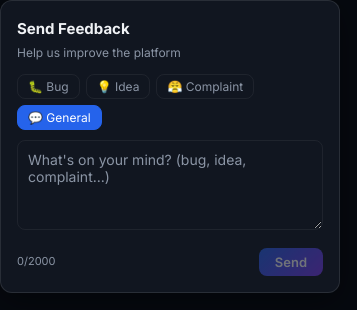
Scenario: FeedbackPopover › enables submit when message is non-empty
Type "Great platform!" into the text box with placeholder "What's on your mind? (bug, idea, complaint...)" at (170, 185), box [17,140,323,230]
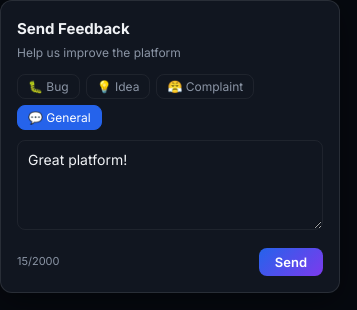
Check: the button "Send" is enabled, box [259,248,323,276]
